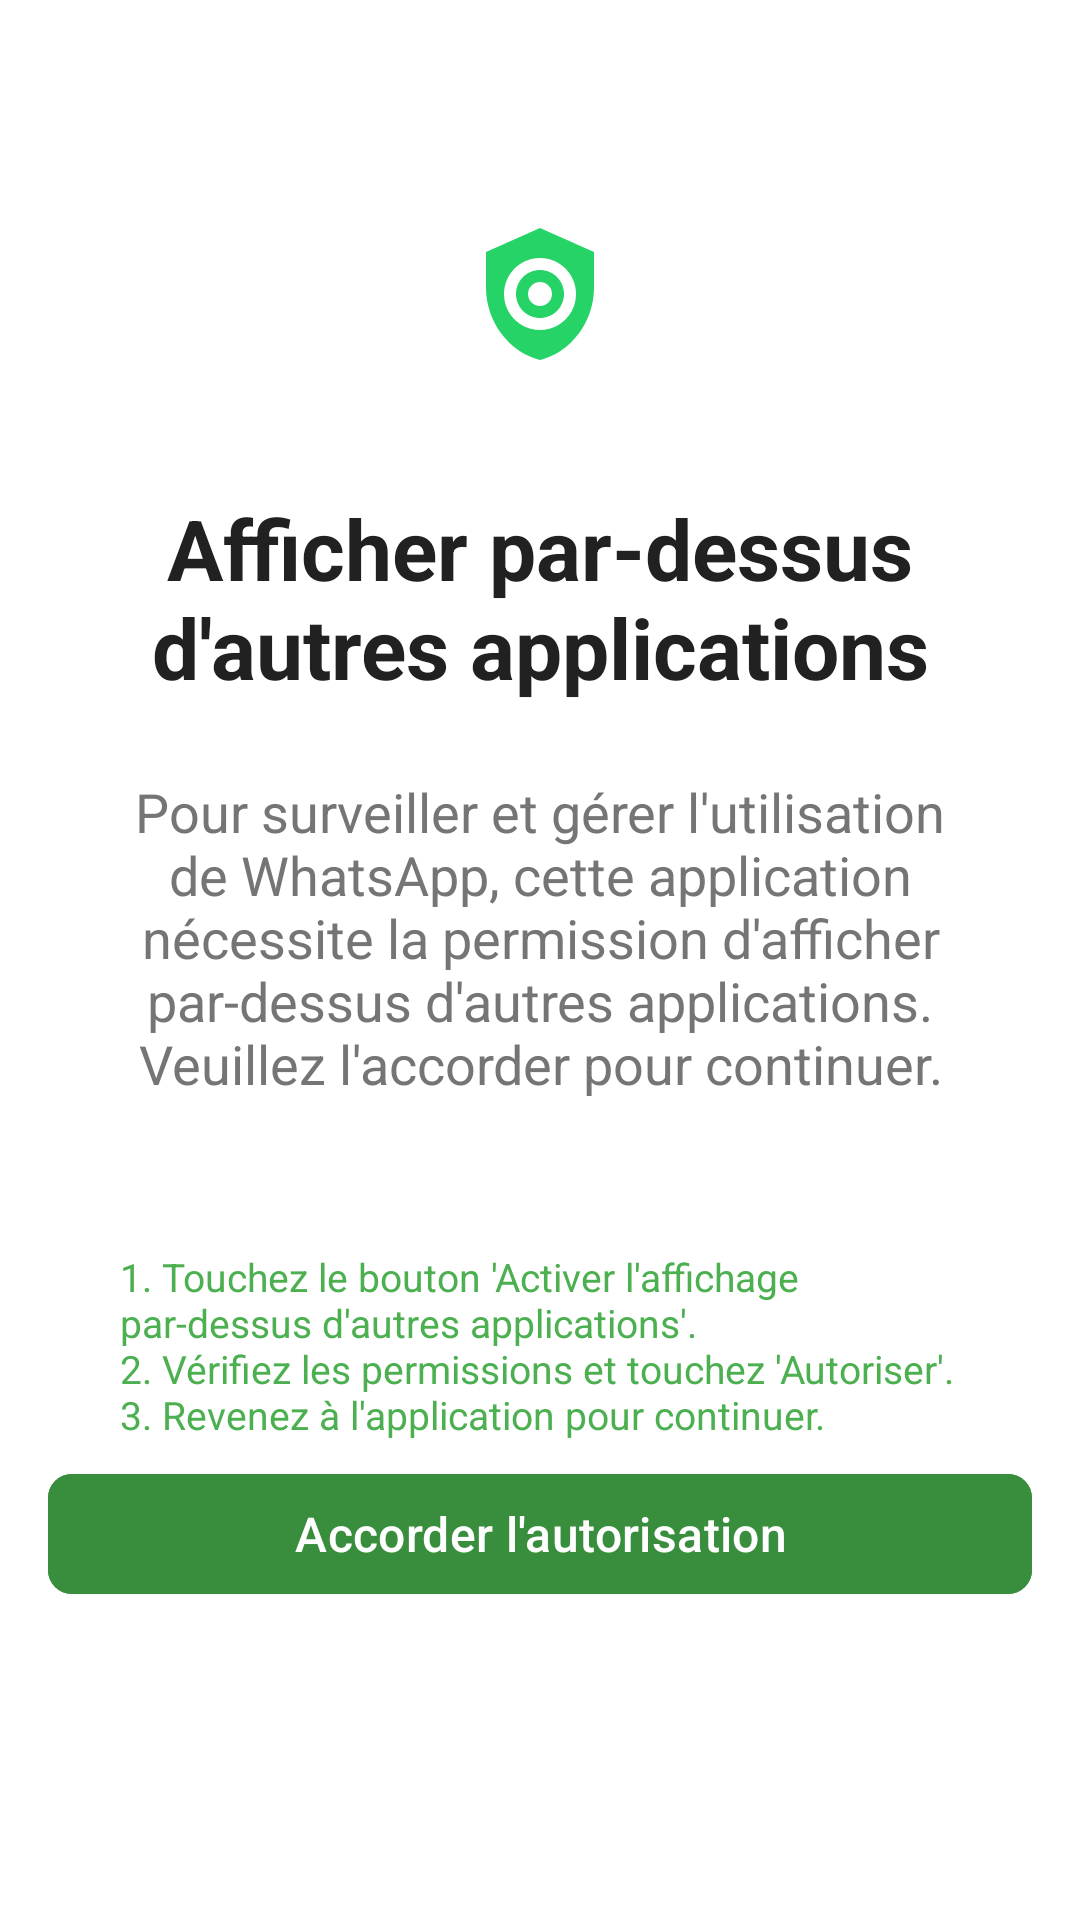

Screen size 1080×1920. Icon name, then its center in pixels as (x=x, y=y):
icône de l'application: (x=540, y=294)
